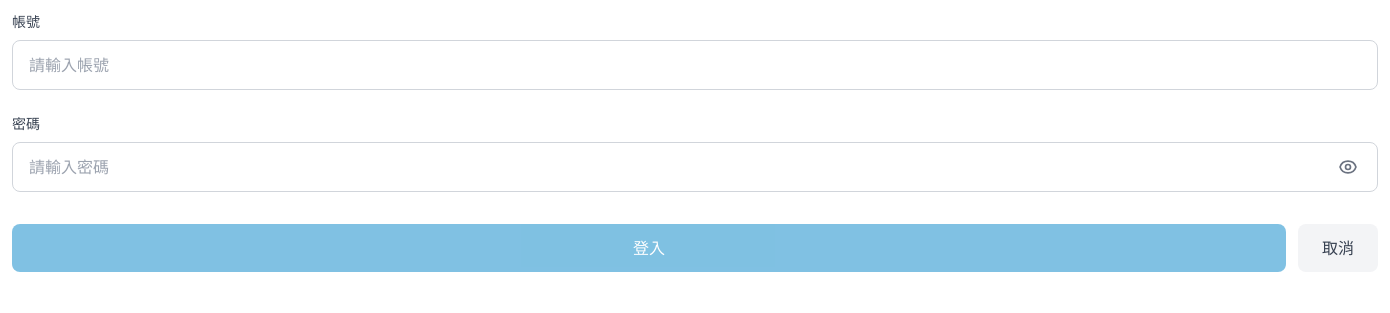
Scenario: LoginForm › 應該顯示驗證錯誤訊息（帳號為空）
Type "password123" into the password field labelled "密碼" at [695, 167], box [12,142,1378,192]
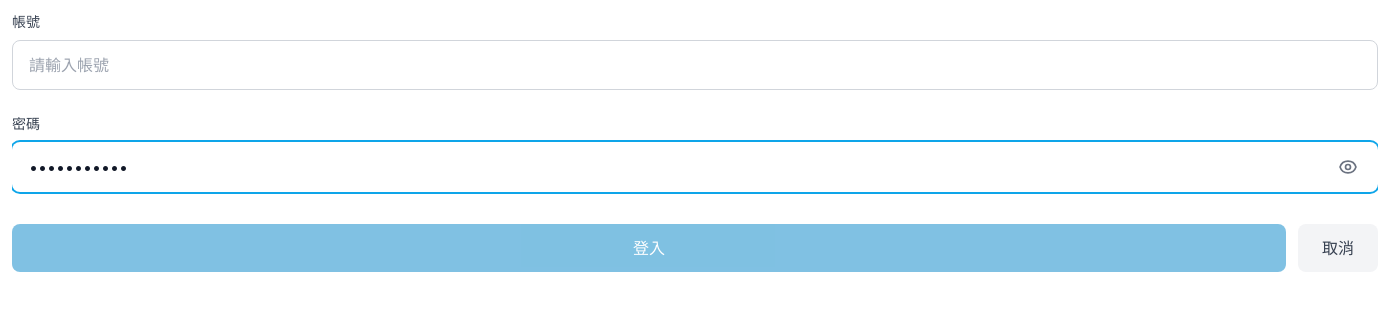
Click the button "登入" at [649, 248], box [12,224,1286,272]
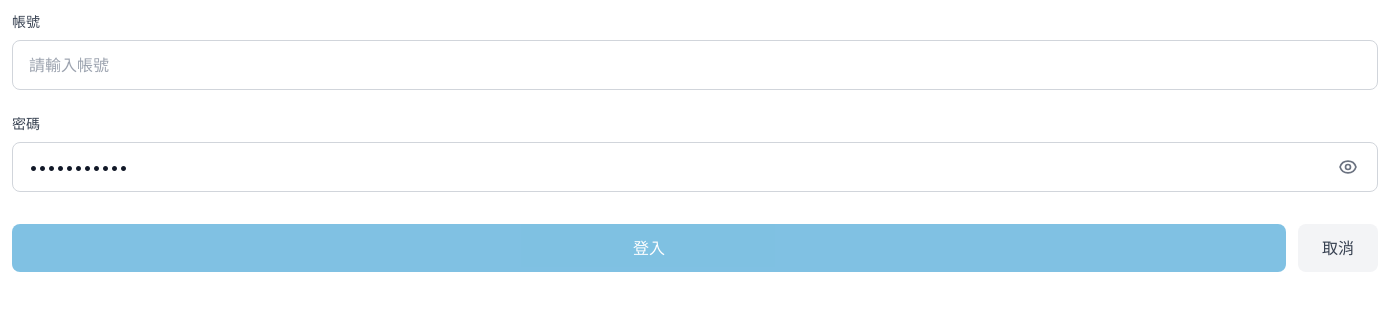
# 觸發驗證（失去焦點）
Click the field labelled "帳號" at [695, 65], box [12,40,1378,90]
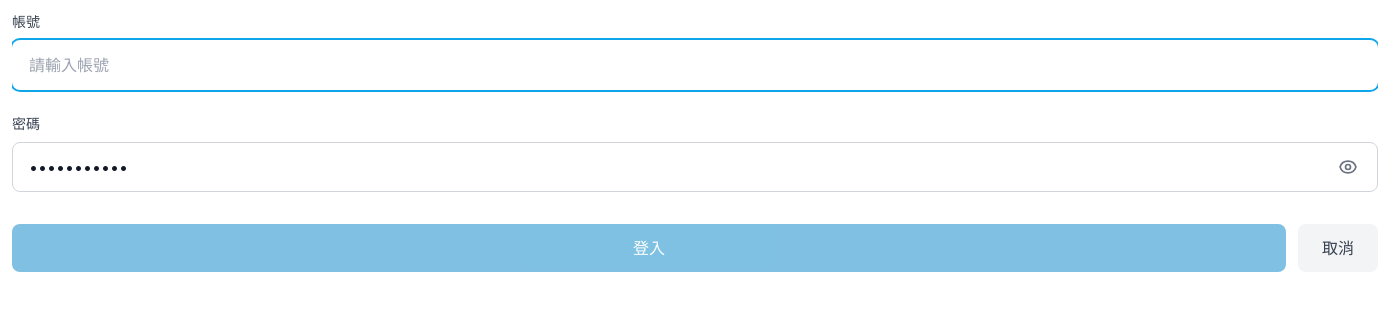
Press Tab
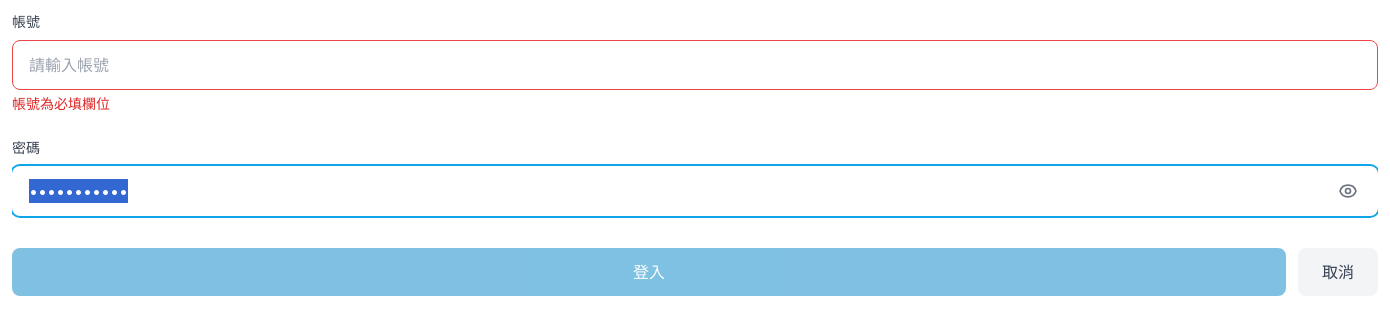
Expected: the text "帳號為必填欄位" is shown, [12,95,110,112]
